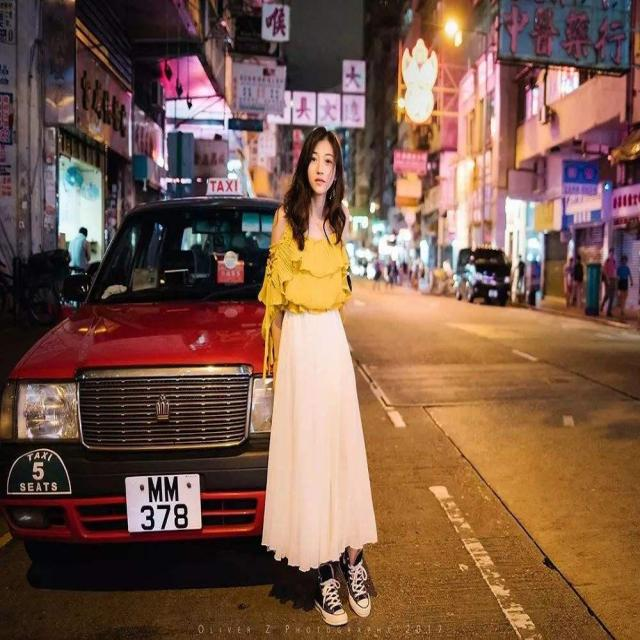other: (20, 295, 267, 544), (350, 202, 474, 285), (267, 228, 353, 307)
